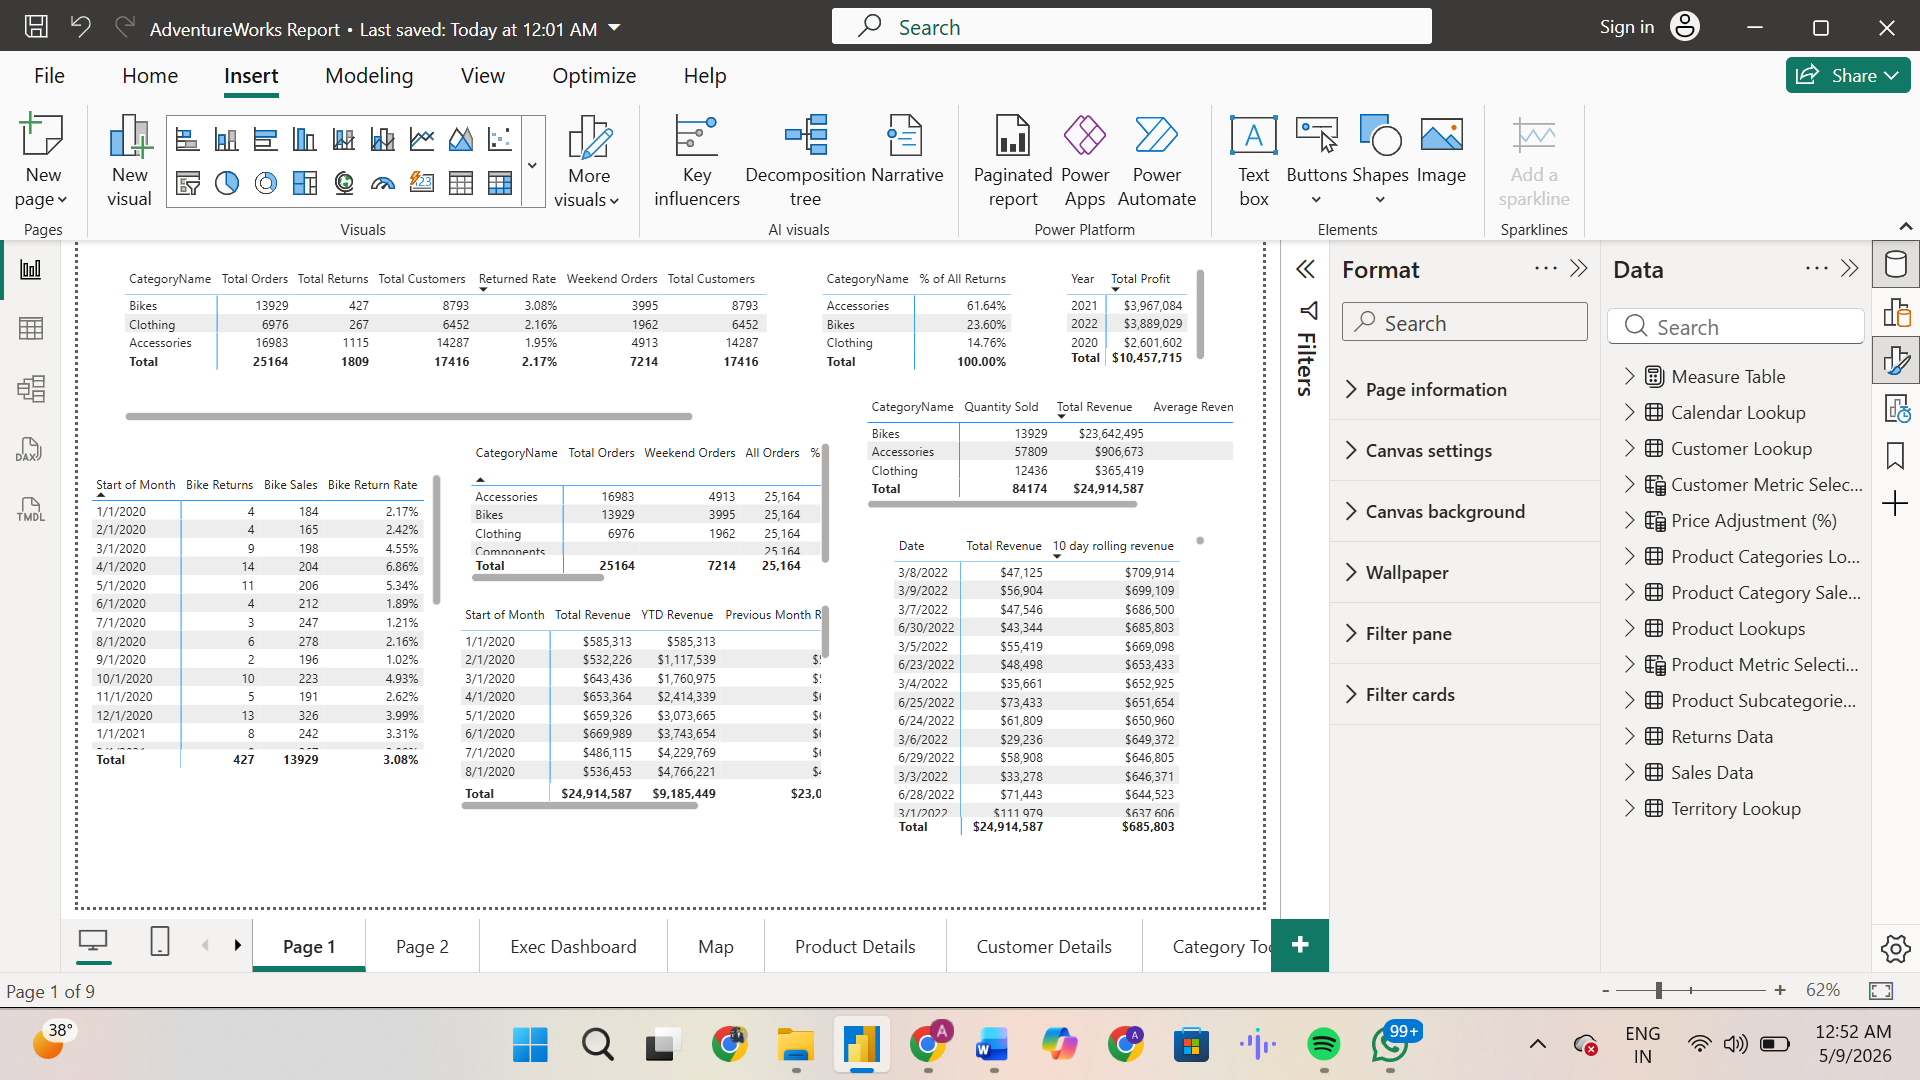

This screenshot's page, from the dashboard's own definition file:
{"tool":"powerbi","page":{"name":"Page 1","canvas":[1280,720],"ordinal":0},"visuals":[{"type":"pivotTable","fields":{"Values":["Measure Table.Total Orders","Measure Table.Total Returns","Measure Table.Total Customers","Measure Table.Returned Rate","Measure Table.Weekend Orders","Measure Table.Total Customers","Measure Table.Bulk Orders"],"Rows":["Product Categories Lookup.CategoryName"]},"box":[44.6,26.3,702.8,174.2],"z":0},{"type":"pivotTable","fields":{"Values":["Measure Table.Bike Returns","Measure Table.Bike Sales","Measure Table.Bike Return Rate"],"Rows":["Calendar Lookup.Start of Month"]},"box":[9.7,247.7,387,327.1],"z":1000},{"type":"pivotTable","fields":{"Values":["Measure Table.Total Orders","Measure Table.Weekend Orders","Measure Table.All Orders","Measure Table.% Of All Orders","Measure Table.Average Retail Price","Measure Table.Overall Average Price","Measure Table.High Ticket Orders"],"Rows":["Product Categories Lookup.CategoryName"]},"box":[419.4,213.7,396.7,160.3],"z":2000},{"type":"pivotTable","fields":{"Rows":["Product Categories Lookup.CategoryName"],"Values":["Measure Table.% of All Returns"]},"box":[798.3,25.9,221.8,123.1],"z":3000},{"type":"pivotTable","fields":{"Rows":["Product Categories Lookup.CategoryName"],"Values":["Measure Table.Quantity Sold","Measure Table.Total Revenue","Measure Table.Average Revenue Per Customer"]},"box":[846.9,163.5,404.8,131.2],"z":4000},{"type":"pivotTable","fields":{"Values":["Measure Table.Total Profit"],"Rows":["Calendar Lookup.Year"]},"box":[1093,34,139.3,106.9],"z":5000},{"type":"pivotTable","fields":{"Values":["Measure Table.Total Revenue","Measure Table.YTD Revenue","Measure Table.Previous Month Revenue","Measure Table.Tagret Revenue"],"Rows":["Calendar Lookup.Start of Month"]},"box":[408,388.6,408,231.5],"z":6000},{"type":"pivotTable","fields":{"Values":["Measure Table.Total Revenue","Measure Table.10 day rolling revenue"],"Rows":["Calendar Lookup.Date"]},"box":[876,314.1,344.9,333.6],"z":7000}]}

Visuals, with their boxes on the page's 1280x720 design canvas (x1, y1, x2, y2). These are canvas units, not pixel positions in the 1920x1080 screenshot, which may show the page scaled, cropped or inside an application window:
pivotTable - Measure Table.Total Orders x Measure Table.Total Returns: <box>45,26,747,200</box>
pivotTable - Measure Table.Bike Returns x Measure Table.Bike Sales: <box>10,248,397,575</box>
pivotTable - Measure Table.Total Orders x Measure Table.Weekend Orders: <box>419,214,816,374</box>
pivotTable - Product Categories Lookup.CategoryName x Measure Table.% of All Returns: <box>798,26,1020,149</box>
pivotTable - Product Categories Lookup.CategoryName x Measure Table.Quantity Sold: <box>847,164,1252,295</box>
pivotTable - Measure Table.Total Profit x Calendar Lookup.Year: <box>1093,34,1232,141</box>
pivotTable - Measure Table.Total Revenue x Measure Table.YTD Revenue: <box>408,389,816,620</box>
pivotTable - Measure Table.Total Revenue x Measure Table.10 day rolling revenue: <box>876,314,1221,648</box>
